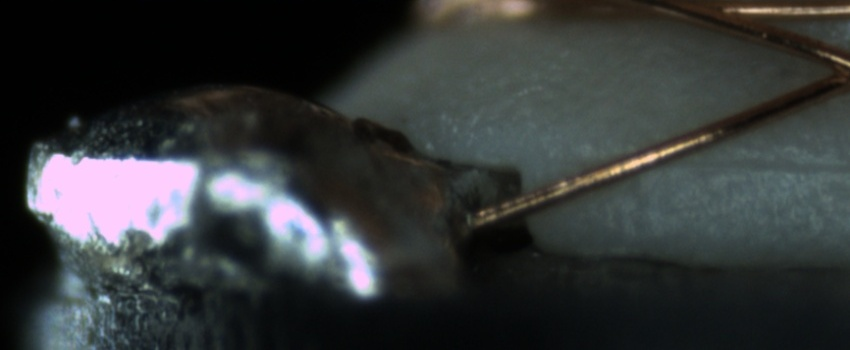CL: (797, 41, 849, 100)
DL: (613, 135, 850, 199)
